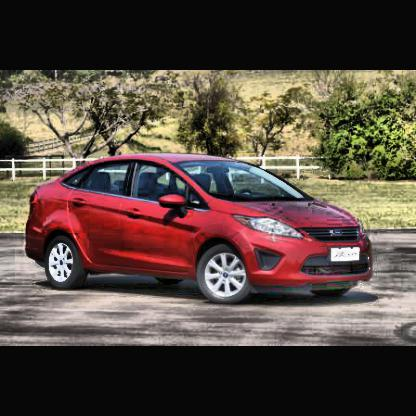Ford Fiesta Sedan 2012: (27, 151, 378, 307)
